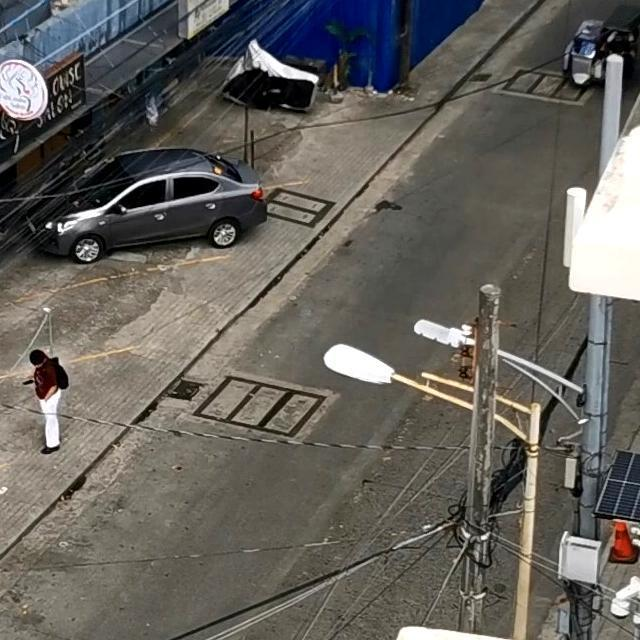Tricycle: (554, 0, 640, 101)
